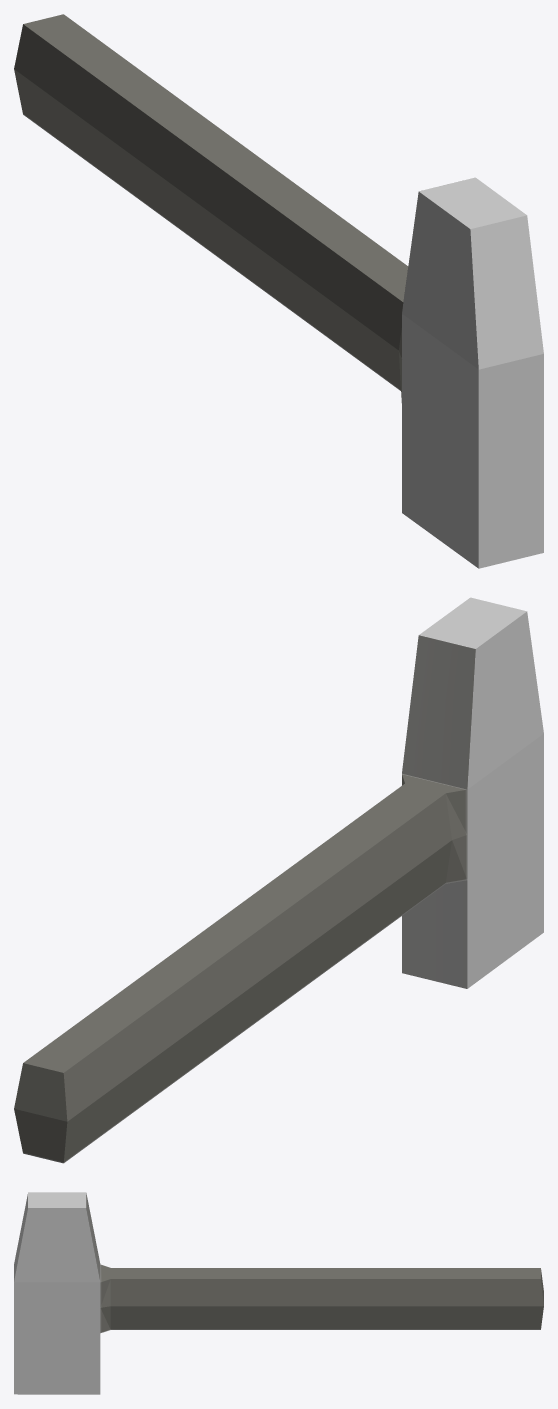
File: hammer.fbx
The picture shows the model from 3 angles, top to bottom: view 1: azimuth 30°, elevation 25°; view 2: azimuth 150°, elevation 25°; view 3: azimuth 270°, elevation 25°; orthographic projection. The views are drawn at different scales.
Parts seen in each view (by area): view 1: hammer_mesh; view 2: hammer_mesh; view 3: hammer_mesh.
Part boxes in pixels (left/top/right/bottom): hammer_mesh: left=14, top=14, right=543, bottom=568; hammer_mesh: left=14, top=597, right=543, bottom=1163; hammer_mesh: left=14, top=1192, right=543, bottom=1394.
Size of the model in its own units: 0.4849 by 2.33 by 6.04.
2 materials, 2 textured.
